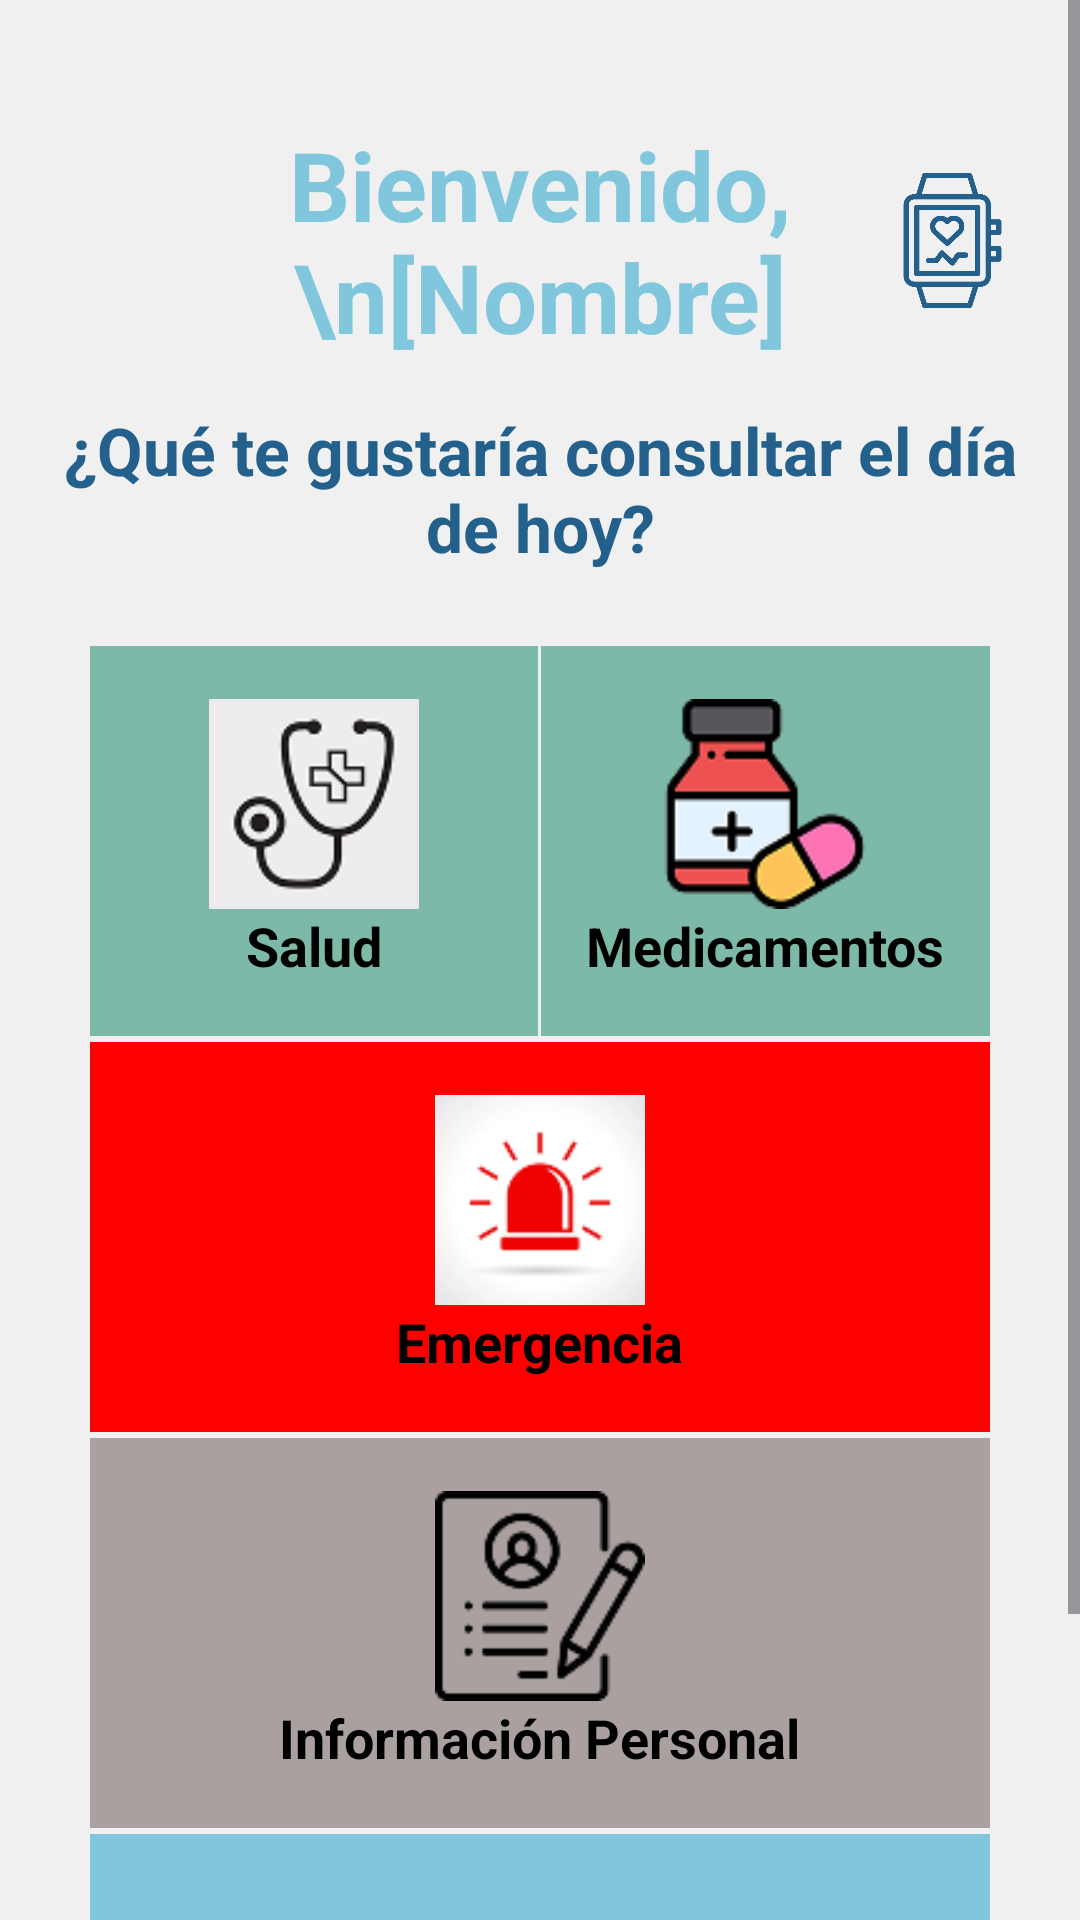

Locate icon controls on the screen. Image size 1080×1920, boxes as (x1, y1, x2, y2).
pulsera: (903, 173, 1002, 308)
stethoscope symbol: (209, 699, 419, 909)
